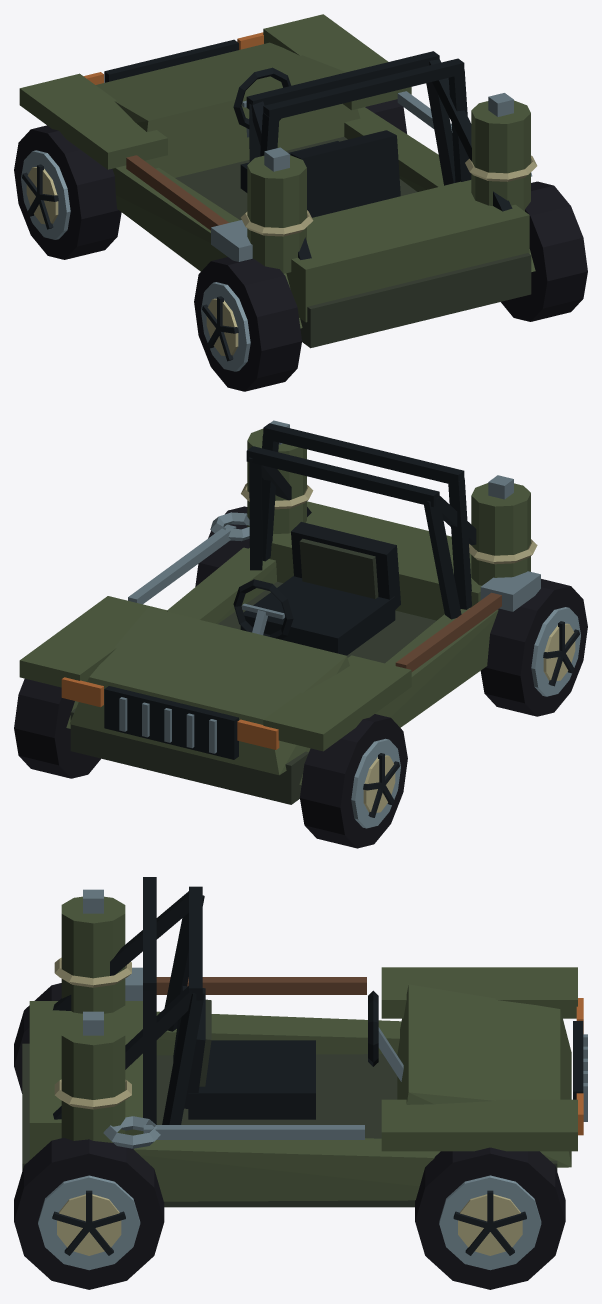
File: kart.glb
3 views of the same model, one above another, from view 1: azimuth 30°, elevation 25°; view 2: azimuth 150°, elevation 25°; view 3: azimuth 270°, elevation 25° (orthographic). The views are drawn at different scales.
Parts seen in each view (by area): view 1: identity-jeep-jeep-offroad-frame, identity-jeep-motif-tanks, wheel-rear-left, wheel-front-left, identity-jeep-driver-cockpit, wheel-rear-right, identity-jeep-motif-rollbar, identity-jeep-motif-tools, wheel-front-right; view 2: identity-jeep-jeep-offroad-frame, identity-jeep-driver-cockpit, wheel-front-left, wheel-rear-left, identity-jeep-motif-tanks, identity-jeep-motif-rollbar, identity-jeep-motif-tools, wheel-front-right, wheel-rear-right; view 3: identity-jeep-jeep-offroad-frame, wheel-rear-right, wheel-front-right, identity-jeep-motif-tanks, identity-jeep-driver-cockpit, identity-jeep-motif-tools, identity-jeep-motif-rollbar, wheel-rear-left.
Part boxes in pixels (<box>): identity-jeep-jeep-offroad-frame: <box>19,14,535,348</box>; identity-jeep-motif-tanks: <box>241,93,537,273</box>; wheel-rear-left: <box>194,257,301,391</box>; wheel-front-left: <box>14,125,121,259</box>; identity-jeep-driver-cockpit: <box>233,67,400,217</box>; wheel-rear-right: <box>501,181,587,321</box>; identity-jeep-motif-rollbar: <box>260,58,471,182</box>; identity-jeep-motif-tools: <box>126,91,532,261</box>; wheel-front-right: <box>365,99,406,133</box>; identity-jeep-jeep-offroad-frame: <box>19,446,498,804</box>; identity-jeep-driver-cockpit: <box>233,522,400,655</box>; wheel-front-left: <box>300,714,407,848</box>; wheel-rear-left: <box>480,579,587,716</box>; identity-jeep-motif-tanks: <box>241,420,537,585</box>; identity-jeep-motif-rollbar: <box>262,423,471,609</box>; identity-jeep-motif-tools: <box>128,512,540,671</box>; wheel-front-right: <box>14,678,100,778</box>; wheel-rear-right: <box>195,506,249,586</box>; identity-jeep-jeep-offroad-frame: <box>22,886,587,1207</box>; wheel-rear-right: <box>14,1137,164,1289</box>; wheel-front-right: <box>415,1147,565,1289</box>; identity-jeep-motif-tanks: <box>54,889,131,1142</box>; identity-jeep-driver-cockpit: <box>173,986,403,1119</box>; identity-jeep-motif-tools: <box>103,967,366,1148</box>; identity-jeep-motif-rollbar: <box>143,877,156,1124</box>; wheel-rear-left: <box>14,983,61,1093</box>.
Bounding box in the file's own units: 2.13 × 1.43 × 2.75.
